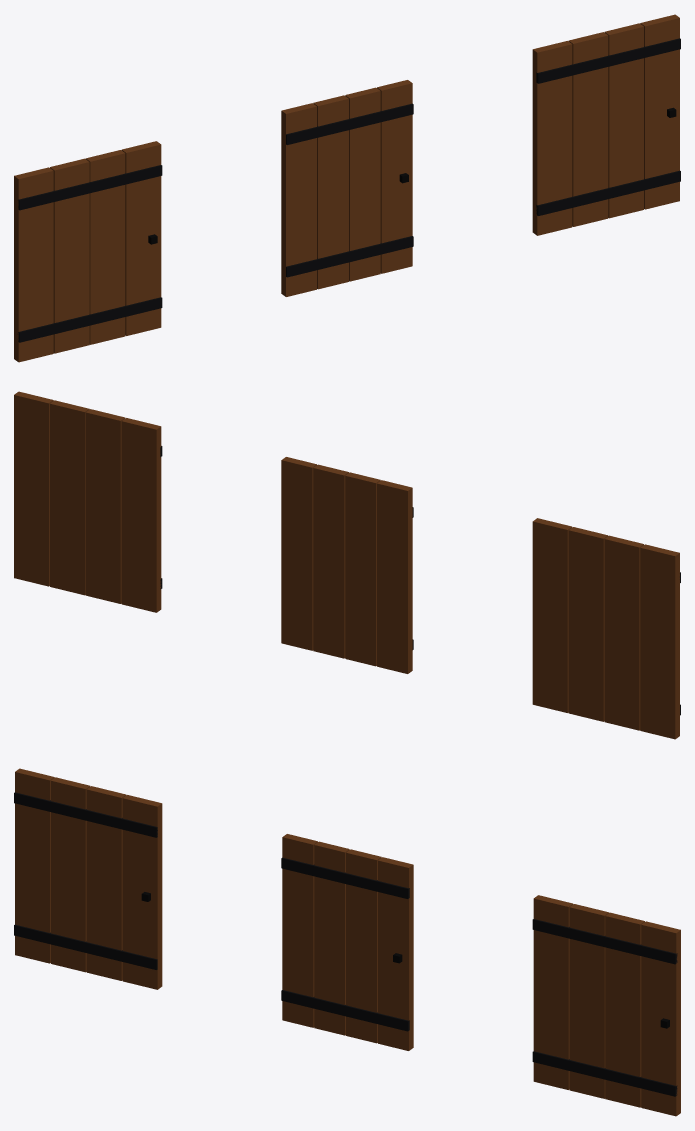
Rendered from PuertasFueraRanchoNuevas.obj.
The picture shows the model from 3 angles, top to bottom: view 1: azimuth 30°, elevation 25°; view 2: azimuth 150°, elevation 25°; view 3: azimuth 330°, elevation 25°; orthographic projection.
Parts seen in each view (by area): view 1: Puerta_Establo2, Puerta_Establo1, Puerta_Principal; view 2: Puerta_Establo1, Puerta_Establo2, Puerta_Principal; view 3: Puerta_Establo1, Puerta_Establo2, Puerta_Principal.
Part boxes in pixels (x1,y1,x2,y2): Puerta_Establo2: [532, 14, 680, 235]; Puerta_Establo1: [14, 141, 162, 362]; Puerta_Principal: [281, 80, 413, 296]; Puerta_Establo1: [532, 518, 680, 739]; Puerta_Establo2: [14, 391, 162, 612]; Puerta_Principal: [281, 457, 413, 673]; Puerta_Establo1: [14, 768, 162, 989]; Puerta_Establo2: [532, 895, 680, 1116]; Puerta_Principal: [281, 834, 413, 1050].
Bounding box in the file's own units: 1.58 × 0.4187 × 0.031.
